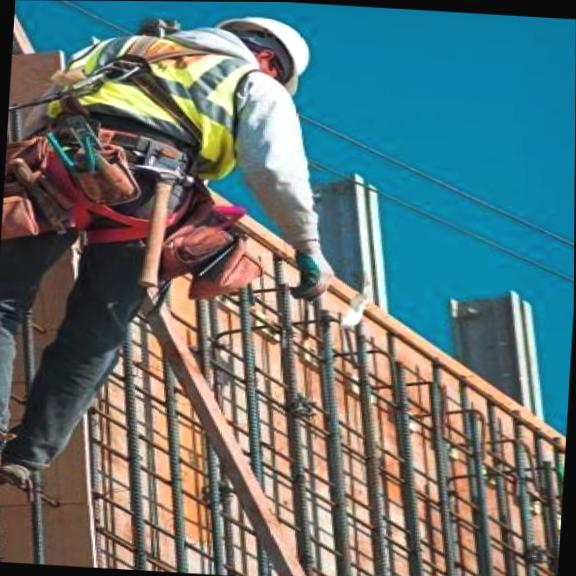safety_vest: (60, 25, 255, 167)
